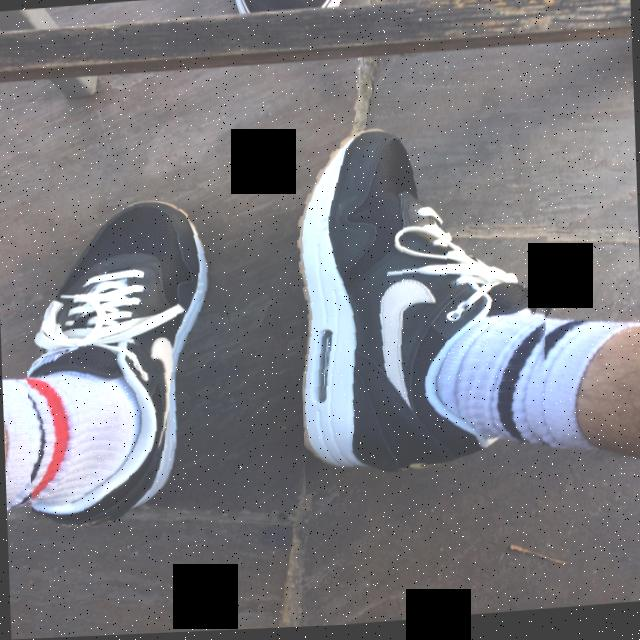shoe: (292, 111, 564, 498), (21, 189, 236, 546)
